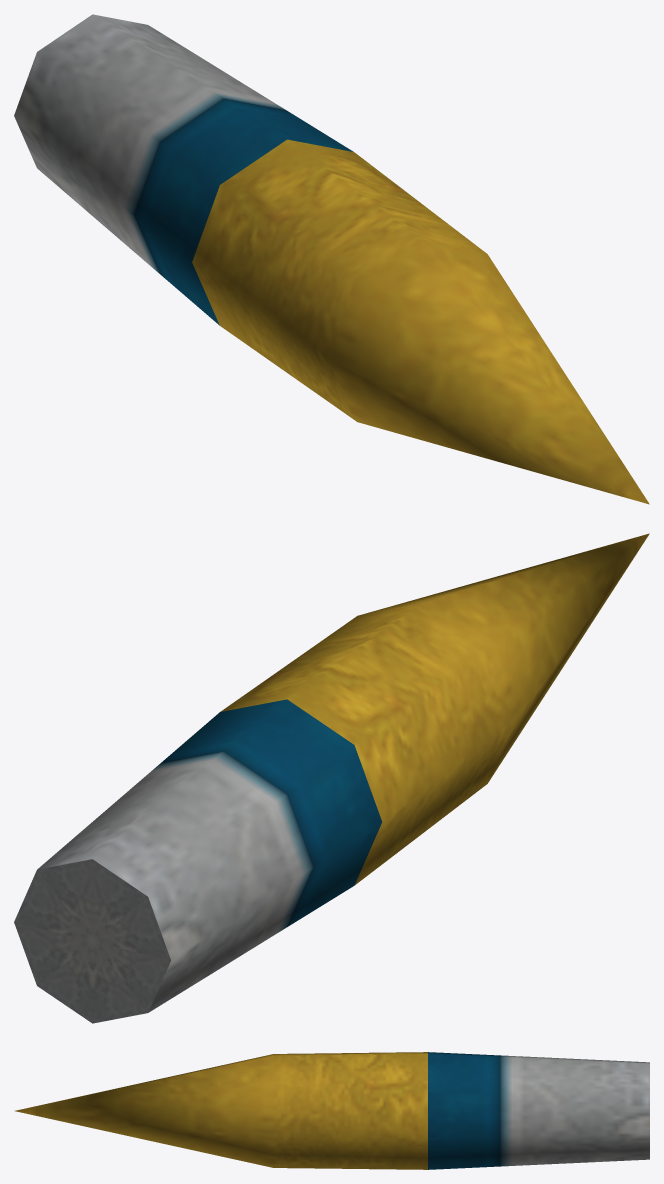
File: iosnip00.FBX
3 views of the same model, one above another, from view 1: azimuth 30°, elevation 25°; view 2: azimuth 150°, elevation 25°; view 3: azimuth 270°, elevation 25° (orthographic). The views are drawn at different scales.
Visible parts, largest first — view 1: iosnip00; view 2: iosnip00; view 3: iosnip00.
Boxes of the visible parts, box(x1,y1,x2,y2) form: iosnip00: box(14, 14, 649, 504); iosnip00: box(14, 533, 649, 1023); iosnip00: box(15, 1052, 649, 1169).
Size of the model in its own units: 0.0799 by 0.0799 by 0.4054.
